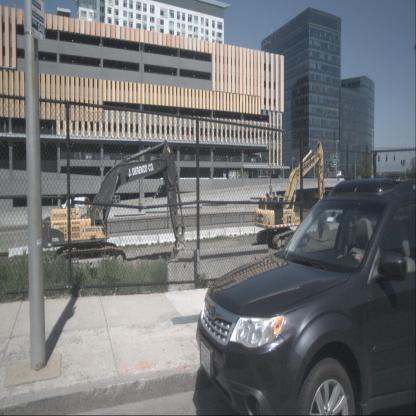vehicle-car: (196, 177, 415, 415), (152, 184, 174, 201), (90, 149, 102, 160), (83, 148, 93, 160), (100, 150, 110, 161), (245, 154, 256, 164), (73, 148, 82, 160), (252, 154, 262, 164), (229, 154, 237, 162), (184, 153, 191, 161), (151, 154, 156, 162)
